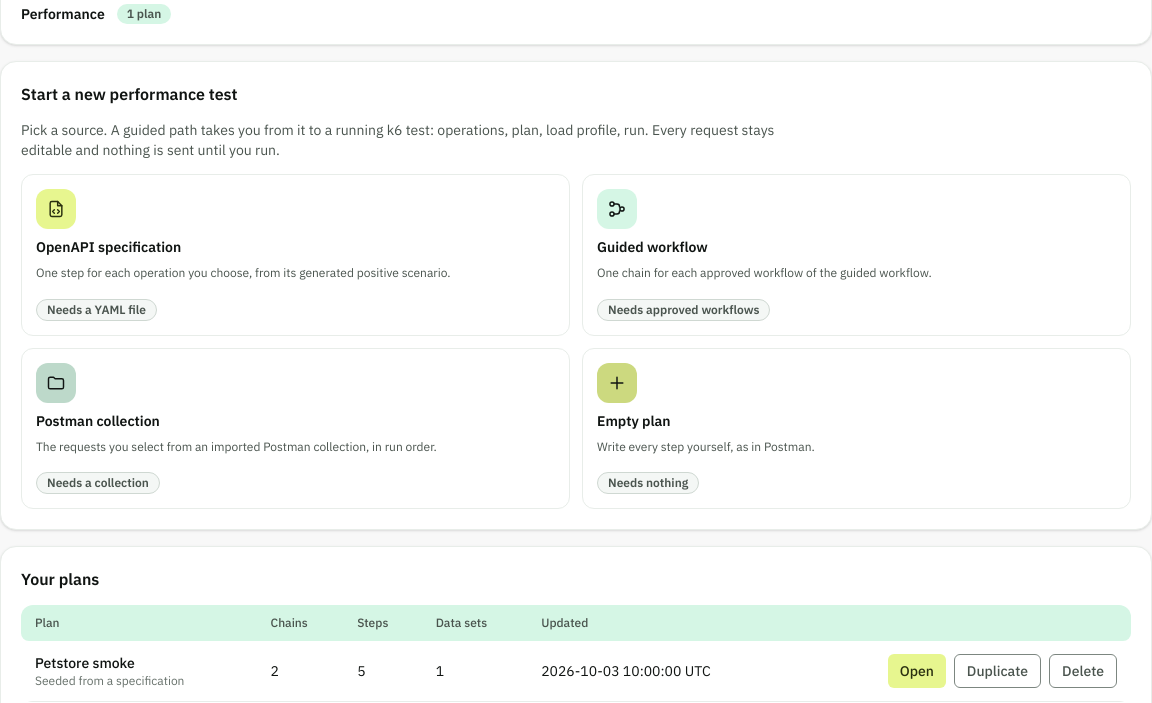
PerformanceHome › duplicates a plan under the name given and reloads the list
Click the button with aria-label "Duplicate Petstore smoke": (997, 671) x1=954 y1=654 x2=1041 y2=688
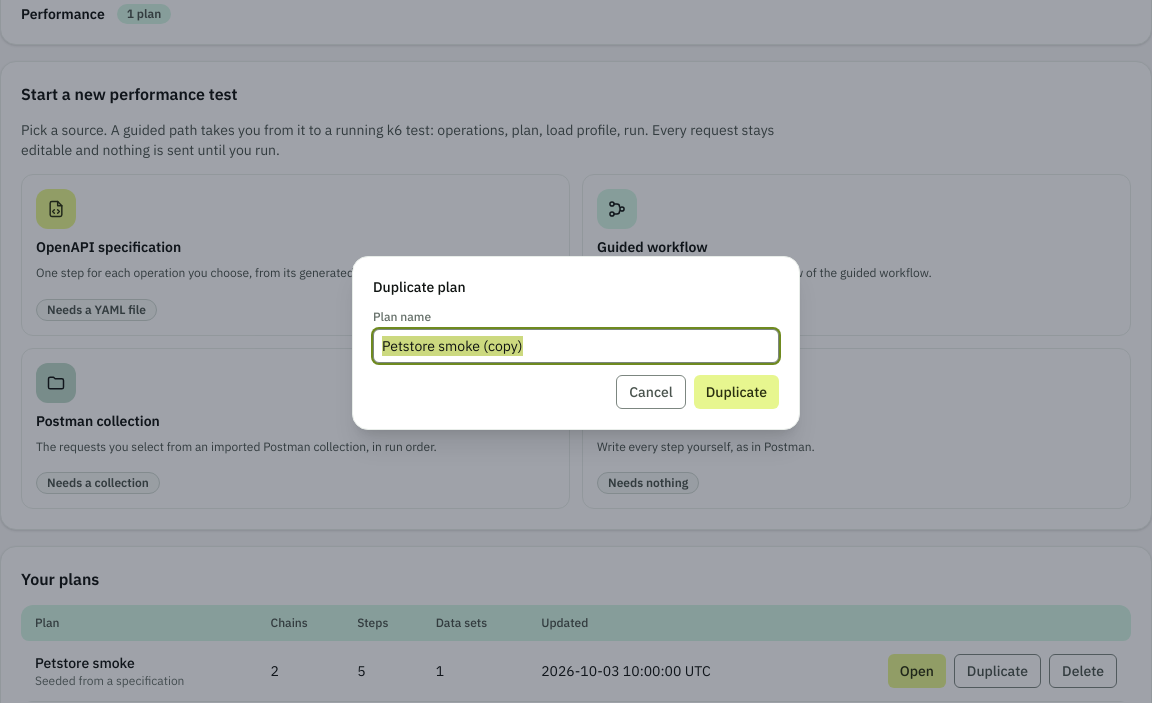
Expected: the field labelled "Plan name" holds "Petstore smoke (copy)", x1=373 y1=329 x2=779 y2=363
Click the button "Duplicate": (736, 392) x1=694 y1=375 x2=779 y2=409
(page scrolled)
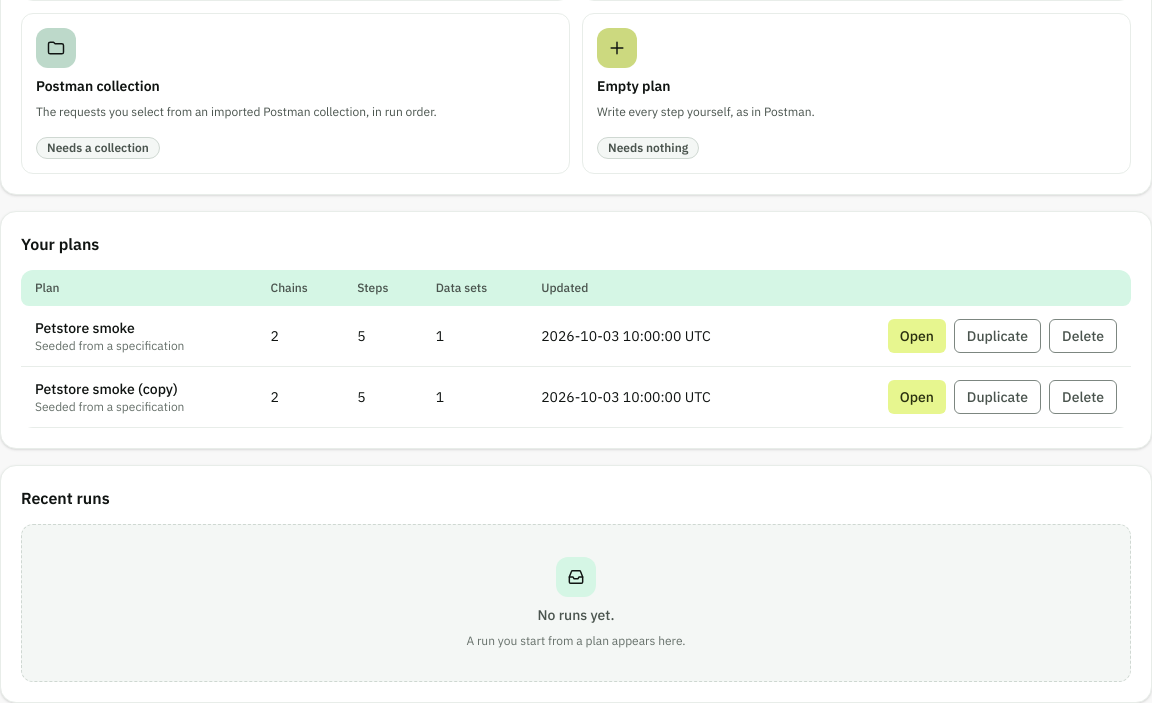
Expected: the text "Petstore smoke (copy)" is shown, x1=35 y1=380 x2=178 y2=398
